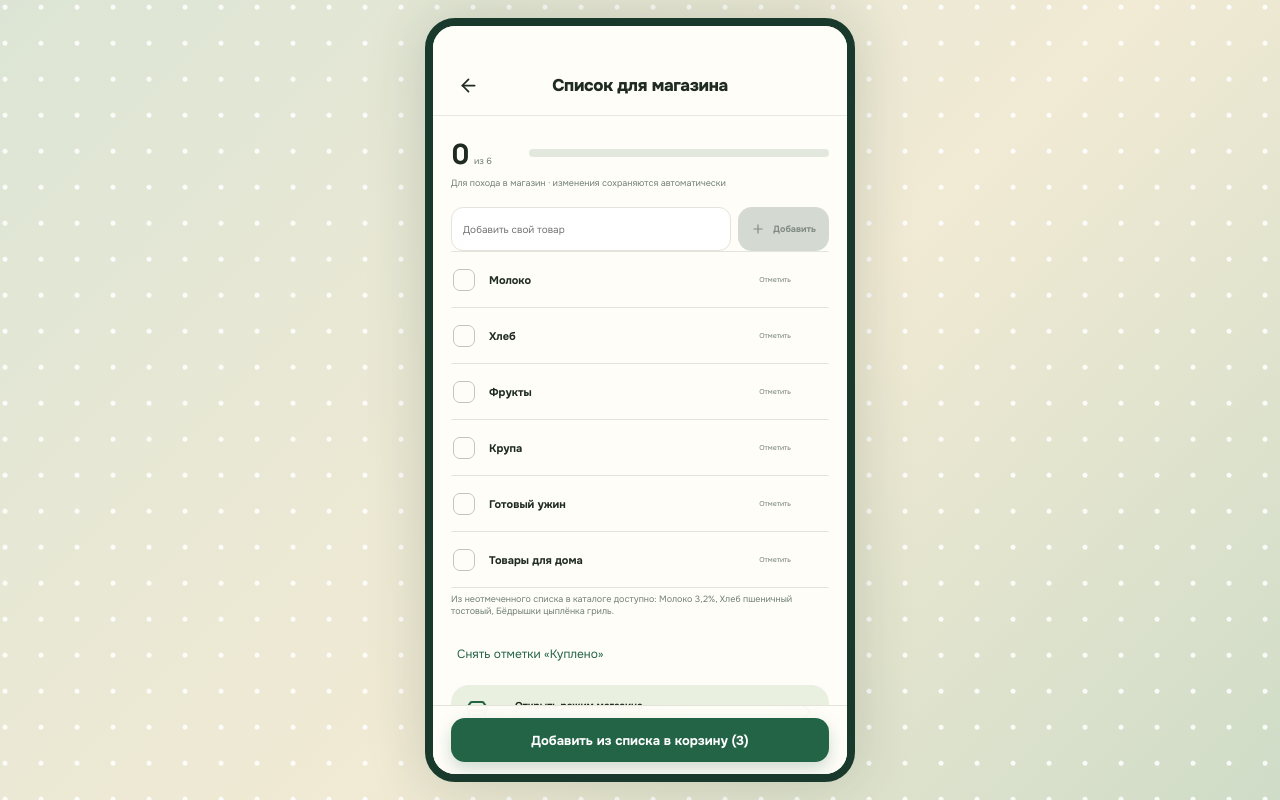
Test: ключевые сценарии прототипа › добавляет список покупок, не уменьшая уже выбранное количество
Click the button "Добавить из списка в корзину (3)" at (640, 740), box [451,718,829,762]
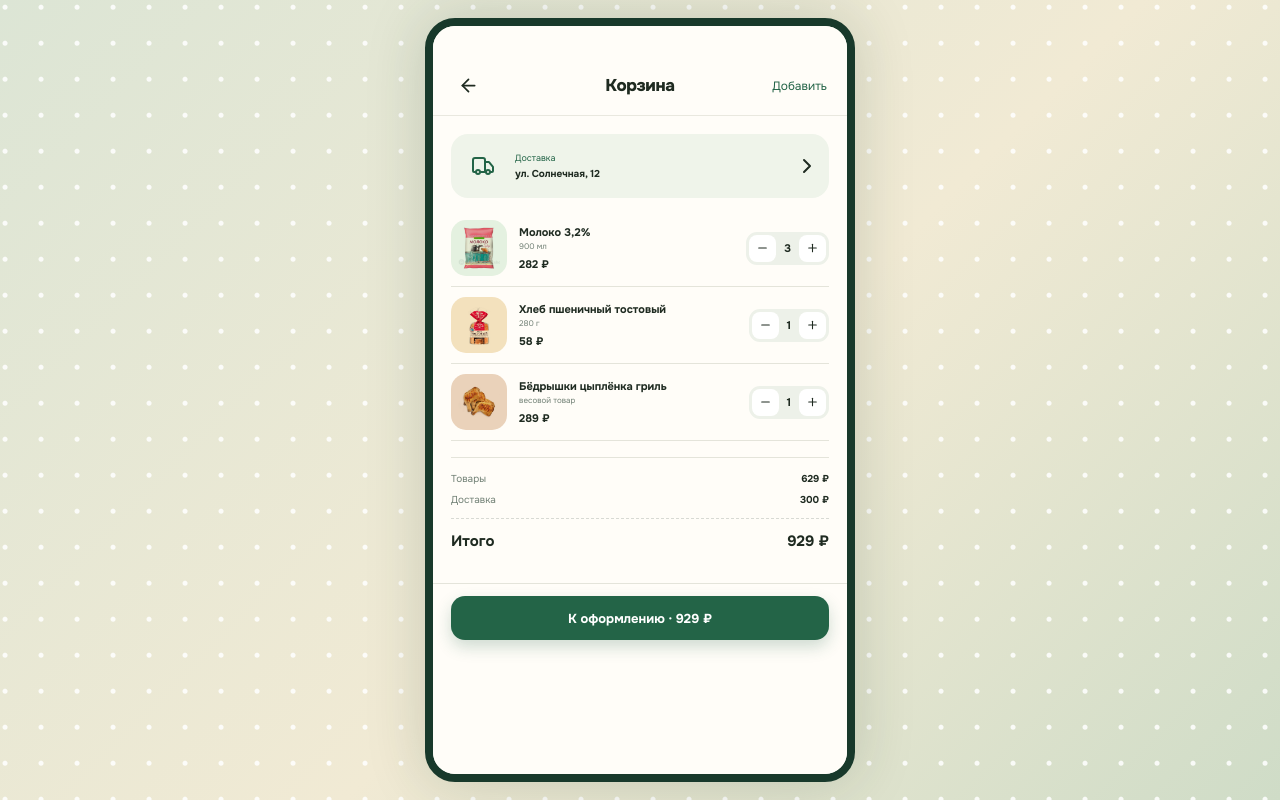
expect the heading "Корзина" is shown: met, box [605,75,675,96]
